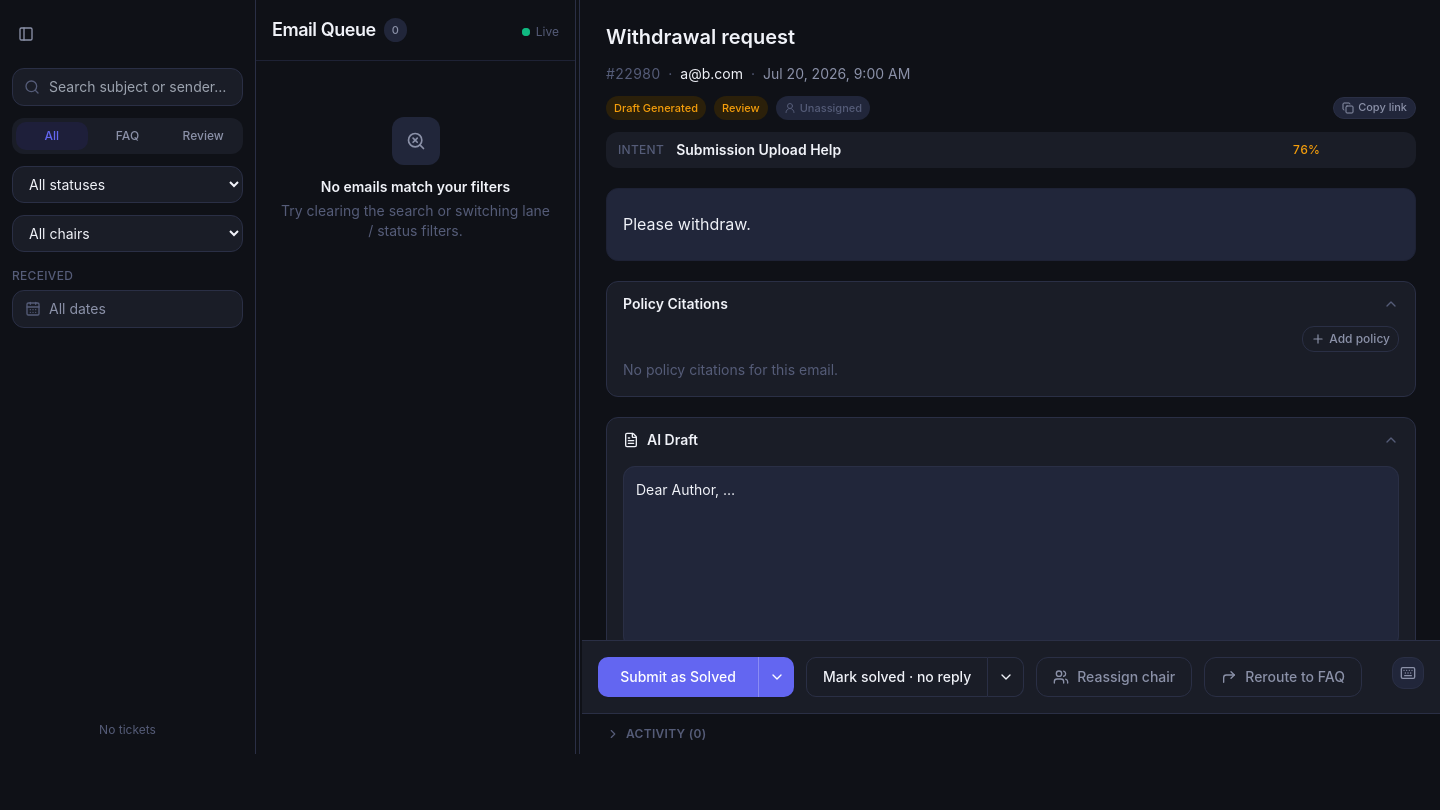
Scenario: forced-policy outcome banner › true → success indicator naming the policy
Click the button "Add policy". click: coordinates (1351, 339)
box: [1302,326,1399,352]
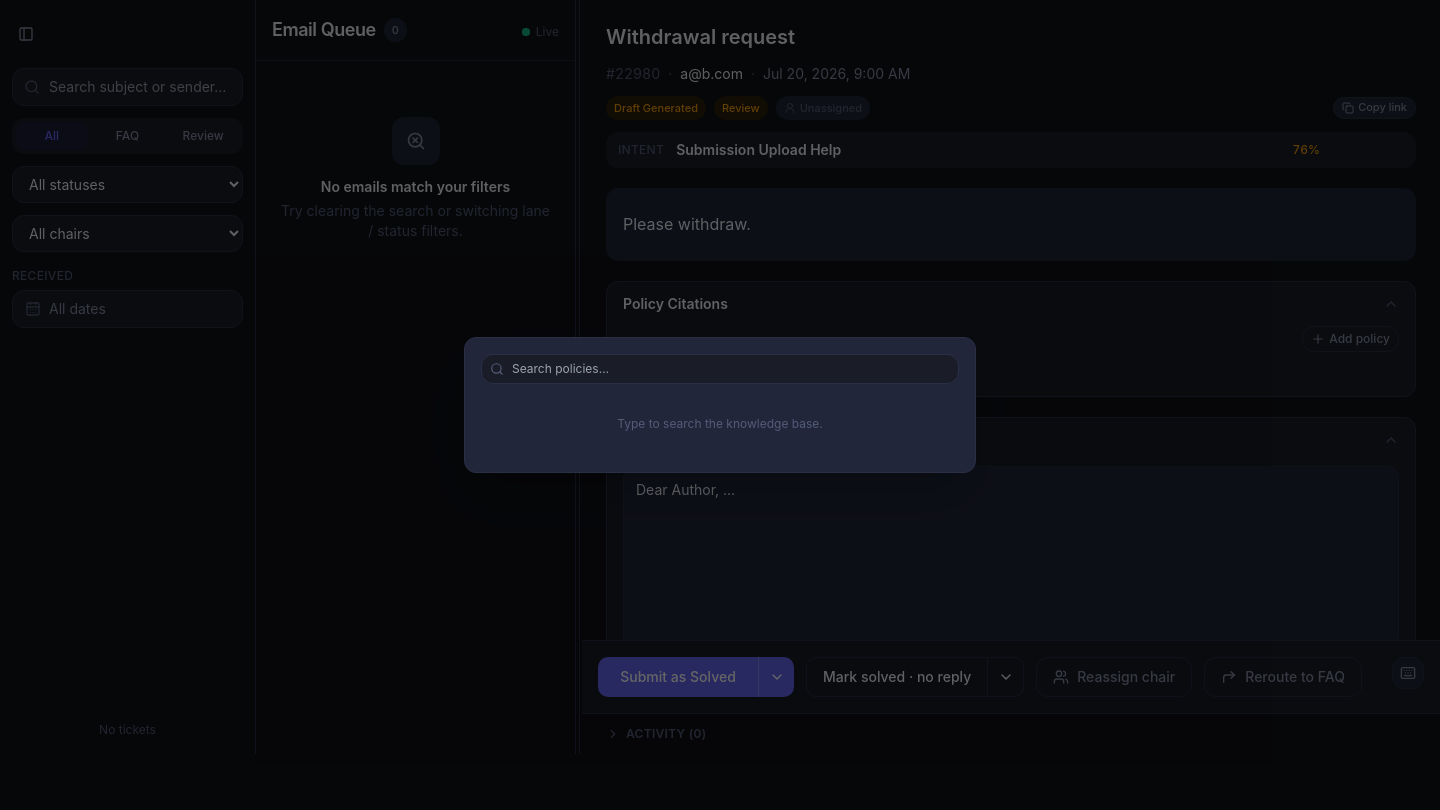
Type "deletion" into the dropdown labelled "Search policies". click: coordinates (731, 369)
box: [512,361,950,377]
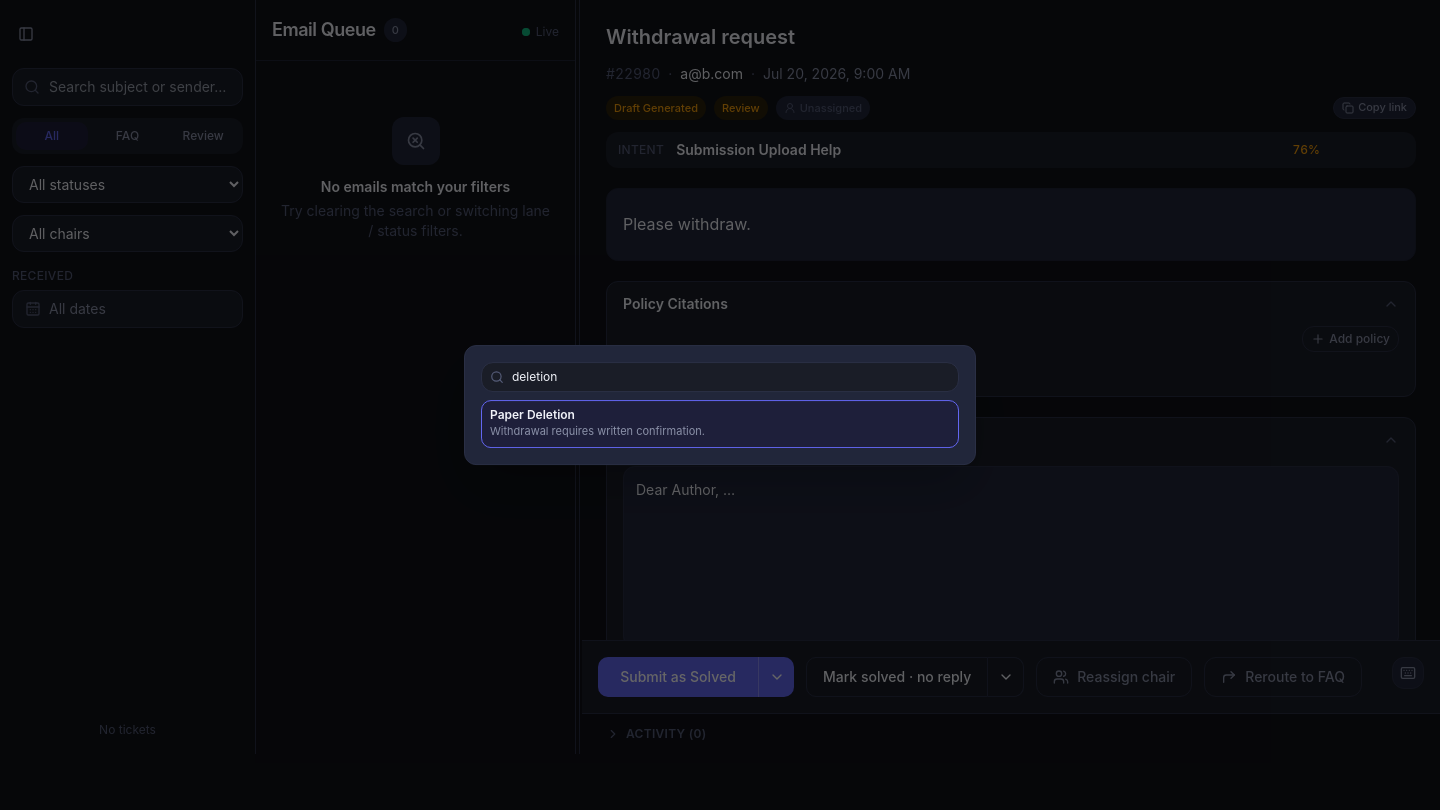
Click the text "Paper Deletion". click: coordinates (532, 415)
box: [490,407,575,422]
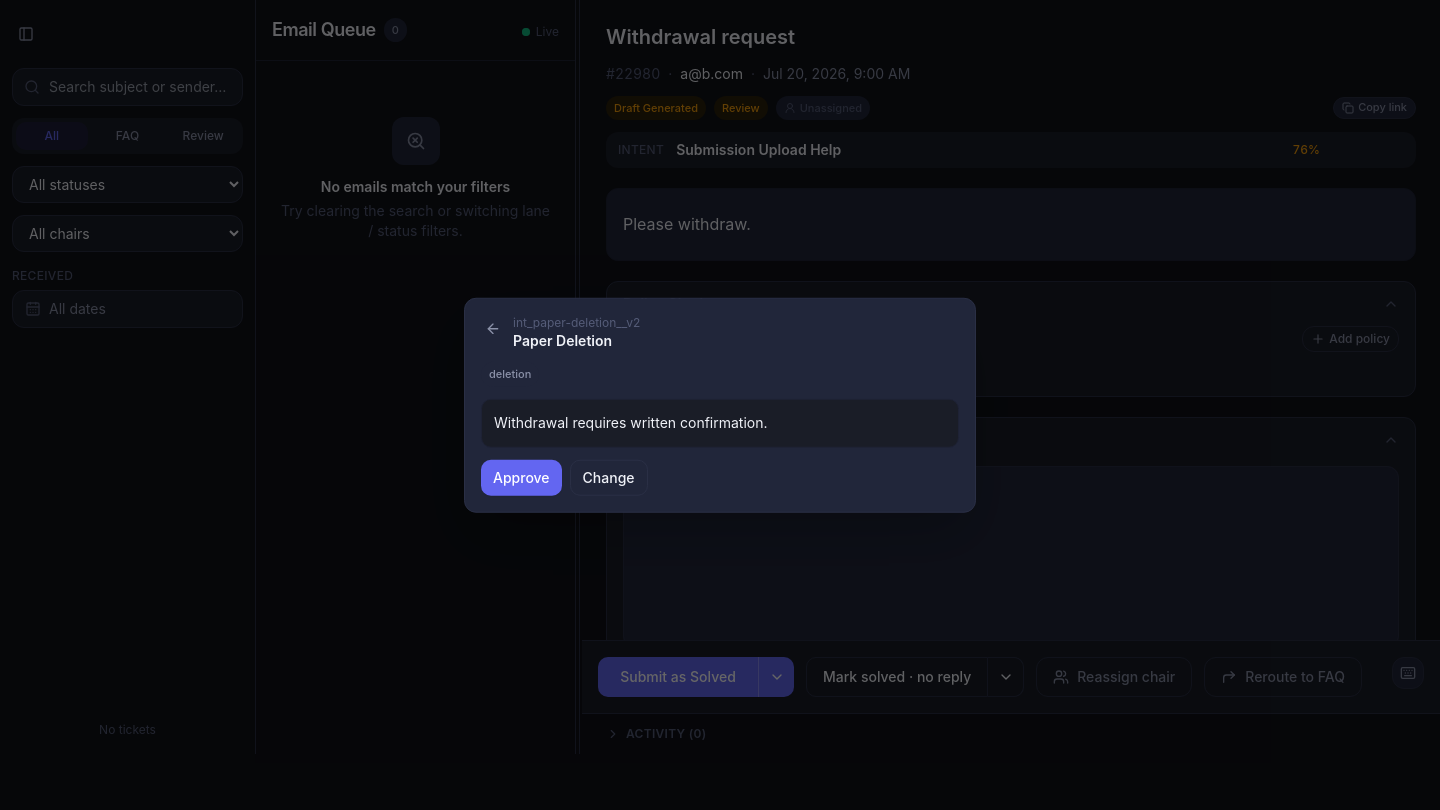
Click the button "Approve". click: coordinates (521, 477)
box: [481,459,562,495]
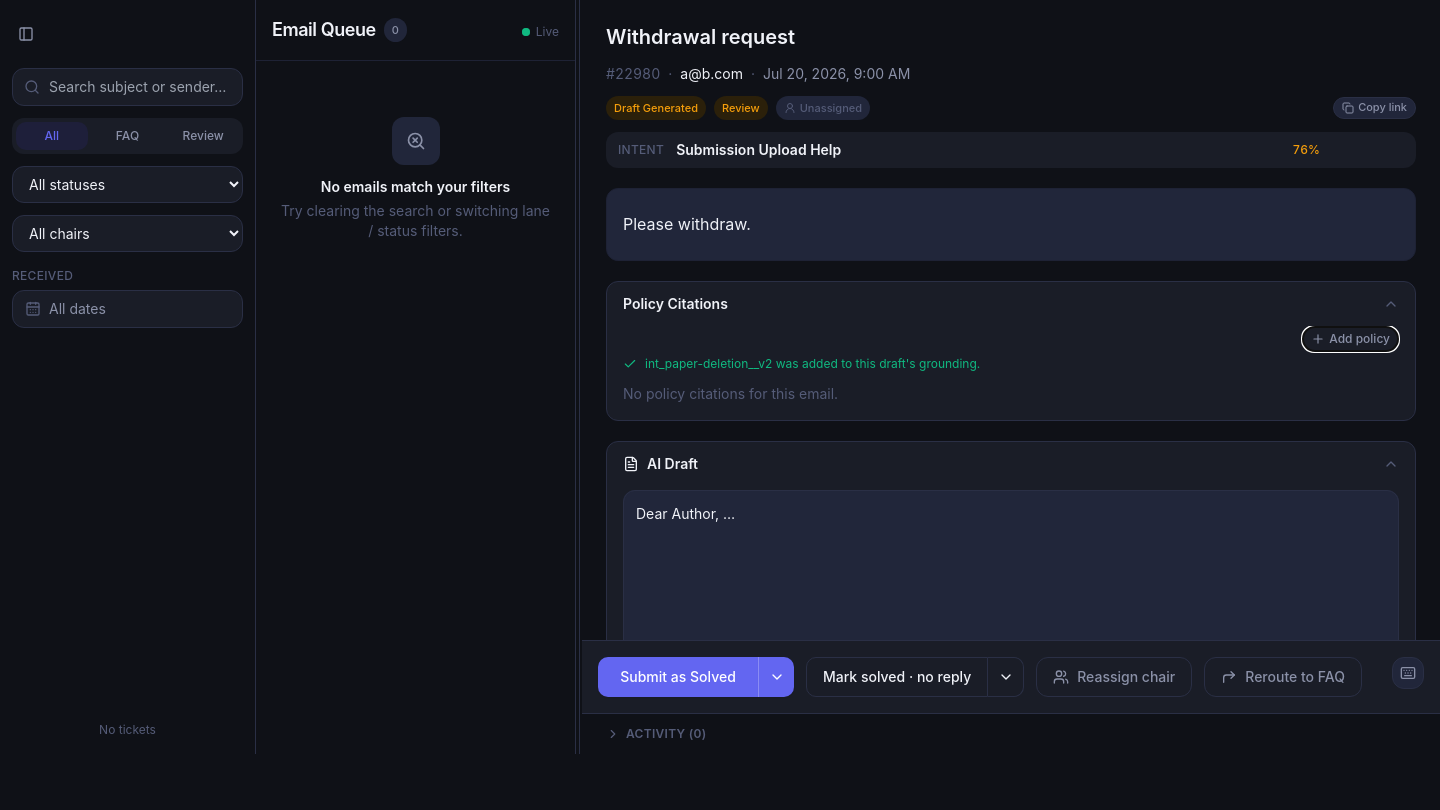
Result: the text "int_paper-deletion__v2" is shown at [645,356,772,371]
Result: the text "int_paper-deletion__v2 was added to this draft's grounding." is shown at [645,356,980,372]
